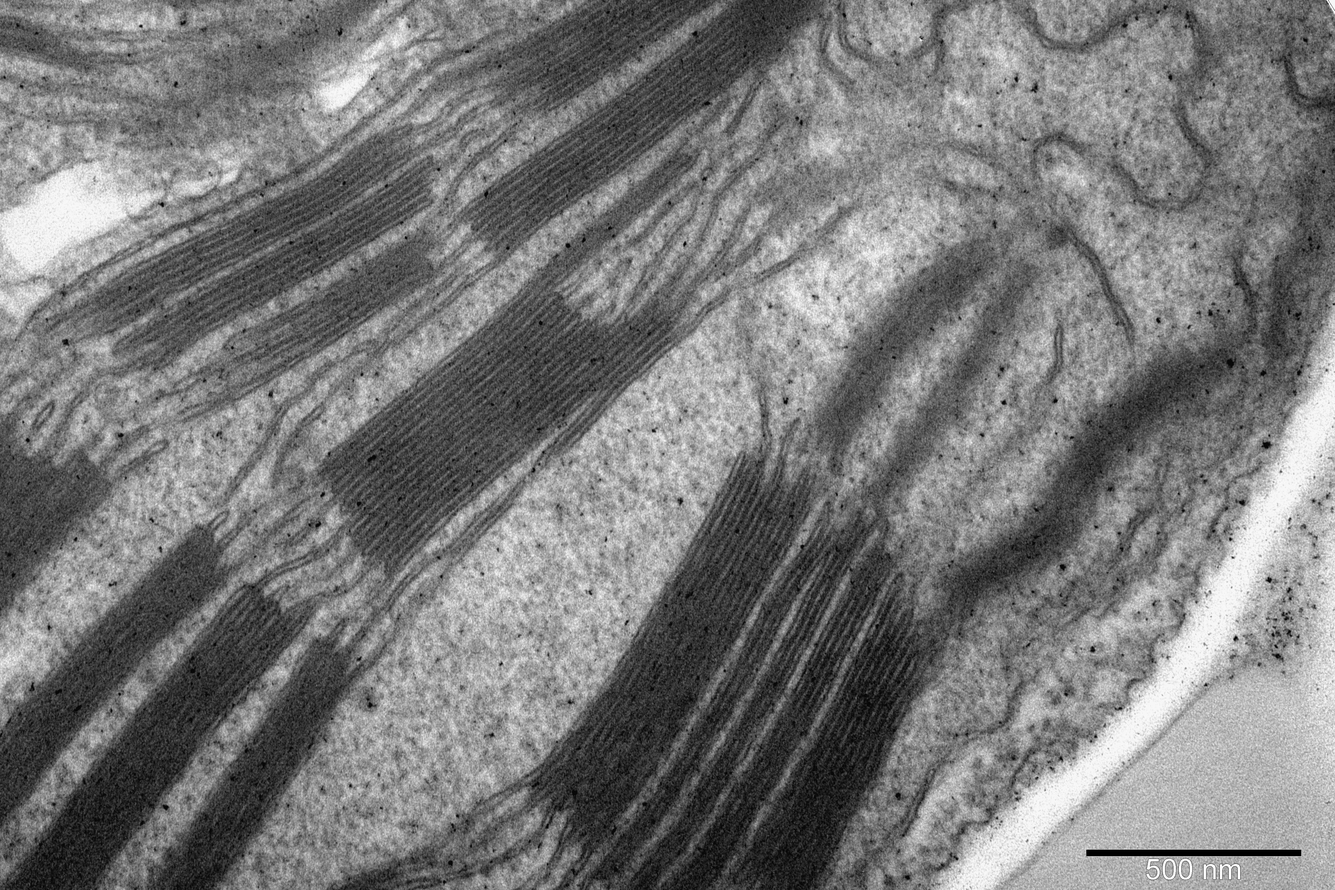granum: (516, 444, 833, 859), (310, 264, 700, 589), (449, 0, 835, 267), (0, 579, 326, 890), (612, 507, 874, 890), (578, 513, 842, 882), (937, 330, 1235, 620), (656, 542, 896, 890), (713, 583, 953, 890), (0, 519, 233, 834), (86, 123, 424, 339), (134, 157, 438, 373), (134, 631, 356, 890), (859, 261, 1039, 510), (809, 228, 1003, 456), (205, 221, 442, 384), (483, 0, 721, 126), (0, 409, 120, 625), (542, 136, 704, 285), (208, 0, 389, 93), (0, 13, 117, 78), (315, 852, 429, 890)
